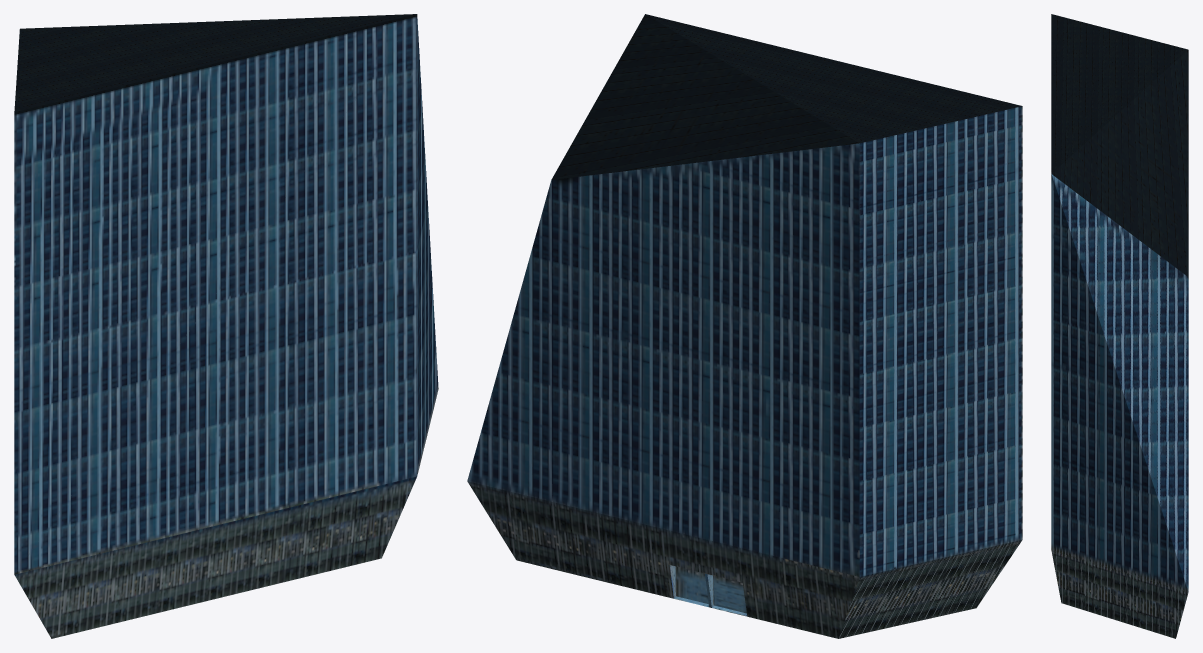
The model's file is 240 Blackfriar's road Explode.glb.
3 renders of one model, left to right at view 1: azimuth 30°, elevation 25°; view 2: azimuth 150°, elevation 25°; view 3: azimuth 270°, elevation 25°, orthographic. The views are drawn at different scales.
Visible parts, largest first — view 1: Building.003, Building, Building.004; view 2: Building, Building.002, Front Face.016, Front Face, Front Face.015, Front Face.014, Front Face.013, Front Face.012, Front Face.011, Front Face.010, Front Face.009, Front Face.008 (+9 smaller); view 3: Building, Building.004, Building.005.
Boxes of the visible parts, x1=… form: Building.003: x1=14, y1=14, x2=417, y2=574; Building: x1=14, y1=14, x2=416, y2=638; Building.004: x1=417, y1=19, x2=438, y2=474; Building: x1=467, y1=14, x2=1022, y2=638; Building.002: x1=859, y1=106, x2=1022, y2=576; Front Face.016: x1=818, y1=146, x2=839, y2=571; Front Face: x1=839, y1=143, x2=859, y2=576; Front Face.015: x1=798, y1=148, x2=818, y2=566; Front Face.014: x1=777, y1=150, x2=797, y2=561; Front Face.013: x1=757, y1=153, x2=777, y2=556; Front Face.012: x1=736, y1=155, x2=756, y2=551; Front Face.011: x1=716, y1=158, x2=736, y2=546; Front Face.010: x1=695, y1=160, x2=715, y2=541; Front Face.009: x1=675, y1=163, x2=695, y2=536; Front Face.008: x1=654, y1=165, x2=674, y2=531; Building: x1=1051, y1=14, x2=1188, y2=638; Building.004: x1=1051, y1=174, x2=1188, y2=591; Building.005: x1=1051, y1=174, x2=1188, y2=591.
Bounding box in the file's own units: 83.97 × 85.5 × 24.1.
Materials: 25 (25 with a texture image).
